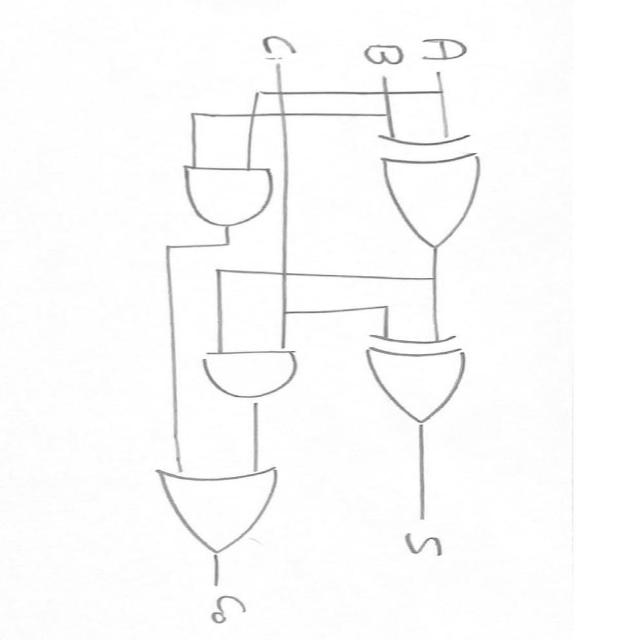AND: (187, 343, 322, 408), (170, 154, 278, 235)
OR: (144, 458, 309, 572)
XOR: (368, 125, 508, 251), (352, 325, 498, 430)
